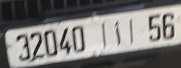0: (44, 28, 58, 55), (73, 24, 84, 53)
2: (31, 30, 43, 61)
3: (15, 34, 30, 61)
4: (60, 25, 70, 54)
5: (146, 14, 162, 41)
6: (162, 11, 176, 40)
a: (112, 19, 123, 47)
